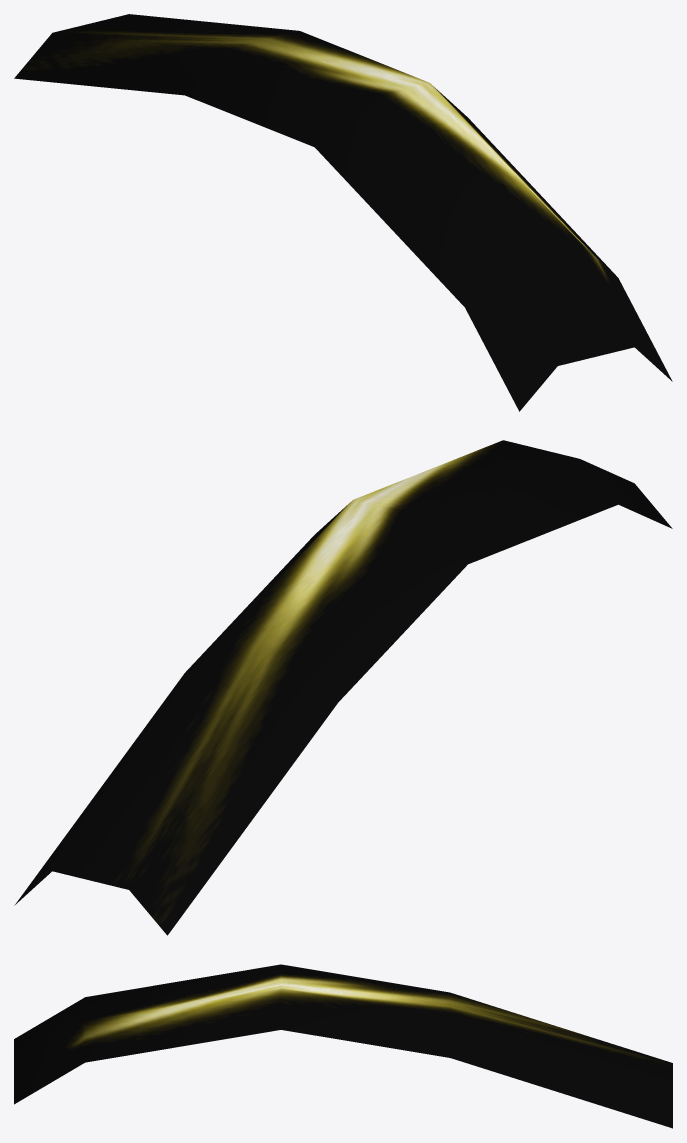
Rendered from claw.FBX.
3 renders of one model, top to bottom at view 1: azimuth 30°, elevation 25°; view 2: azimuth 150°, elevation 25°; view 3: azimuth 270°, elevation 25°, orthographic. The views are drawn at different scales.
Visible parts, largest first — view 1: Plane001; view 2: Plane001; view 3: Plane001.
Part boxes in pixels (x1,y1,x2,y2): Plane001: (14,14,672,411); Plane001: (14,440,672,935); Plane001: (14,964,672,1128).
Bounding box in the file's own units: 20.75 × 25.26 × 118.
